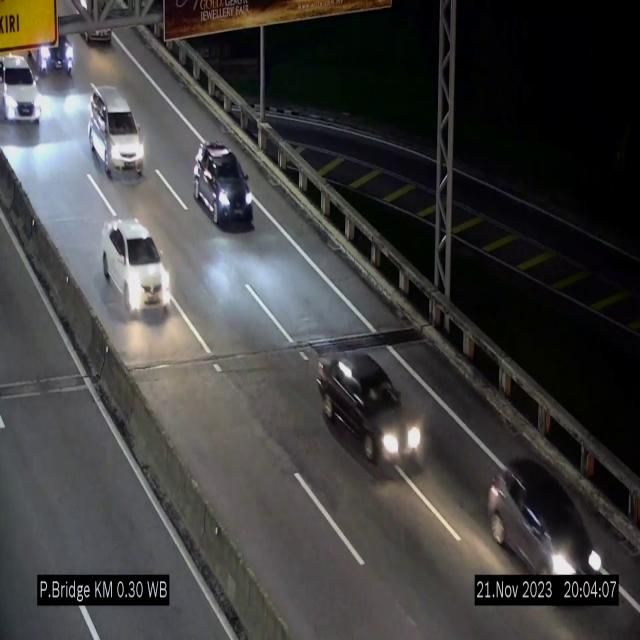Car: (317, 345, 423, 475), (486, 461, 602, 576), (98, 206, 178, 322), (193, 141, 253, 227), (90, 86, 144, 177), (0, 53, 39, 131), (33, 26, 76, 84)
